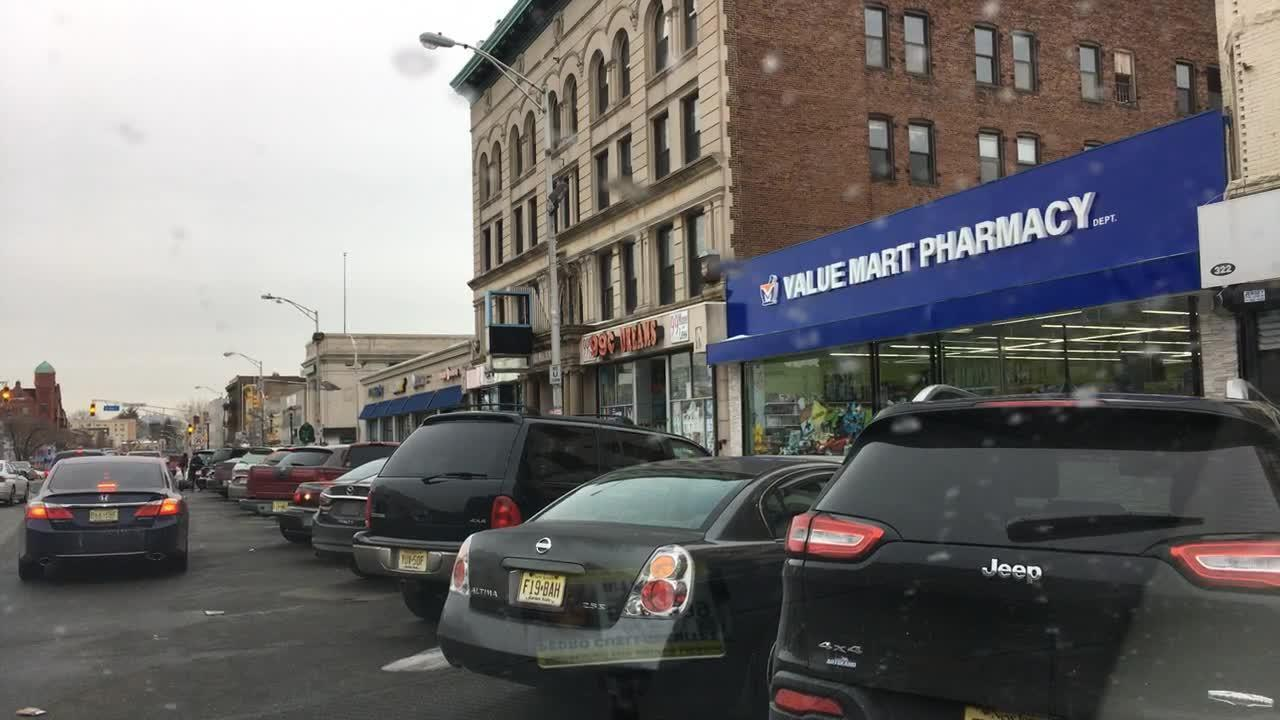Honda: (96, 489, 114, 508)
Nissan: (529, 531, 557, 558)
jeep: (960, 548, 1057, 602)
